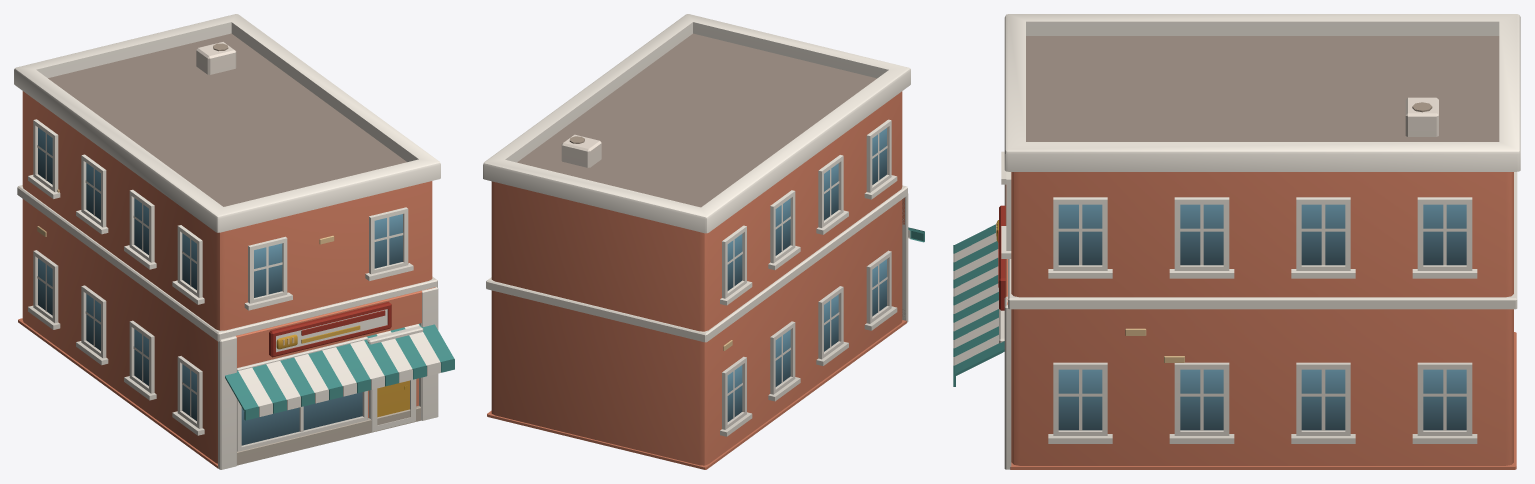
Rendered from beacon_ne7.glb.
3 views of the same model, side by side, from view 1: azimuth 30°, elevation 25°; view 2: azimuth 150°, elevation 25°; view 3: azimuth 270°, elevation 25° (orthographic). The views are drawn at different scales.
Visible parts, largest first — view 1: beacon_ne7; view 2: beacon_ne7; view 3: beacon_ne7.
Boxes of the visible parts, x1,y1,x2,y2 form: beacon_ne7: (14,14,454,469); beacon_ne7: (483,14,924,469); beacon_ne7: (953,14,1520,469).
Size of the model in its own units: 7.98 by 8.71 by 13.55.
1 material, 1 textured.
